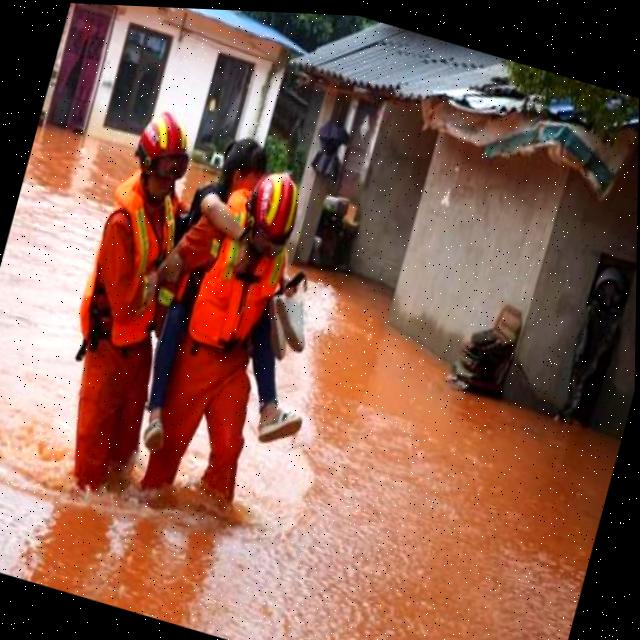civilian: (124, 113, 383, 495)
rescuer: (101, 142, 335, 551), (21, 93, 232, 526)
